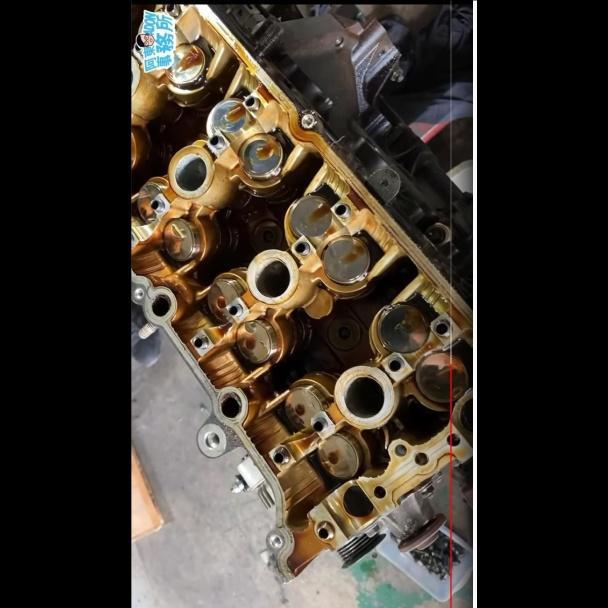hole: (414, 448, 430, 468), (204, 430, 220, 449), (301, 111, 315, 131), (392, 444, 408, 457), (373, 484, 386, 499), (270, 533, 283, 547), (132, 287, 144, 301), (332, 36, 346, 45)
